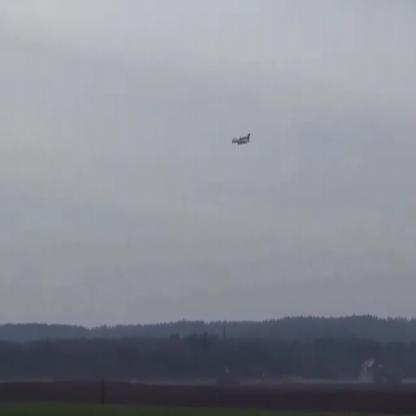CIV_Plane: (230, 132, 250, 146)
